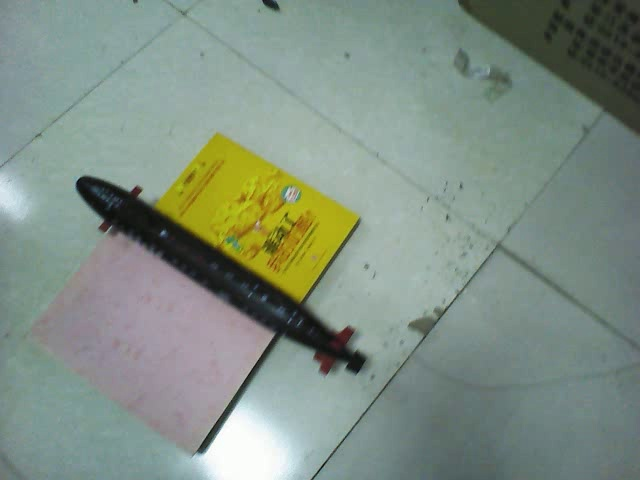submarine: (70, 167, 366, 374)
